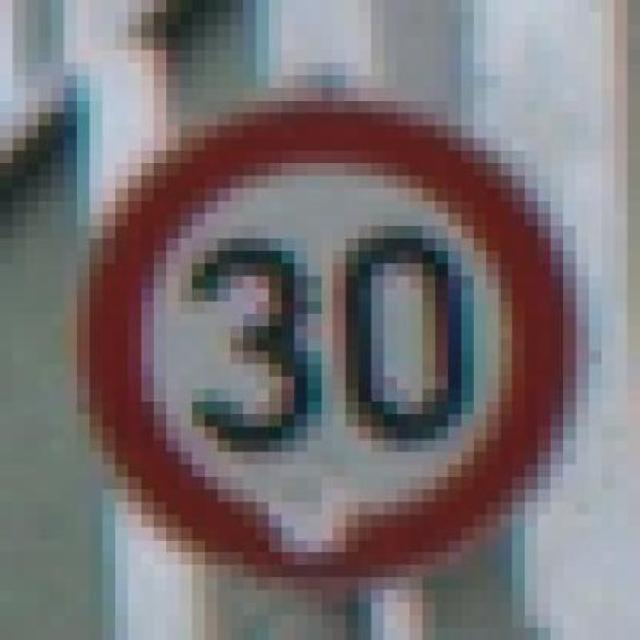Speed Limit 30 KMPh: (25, 62, 627, 615)
